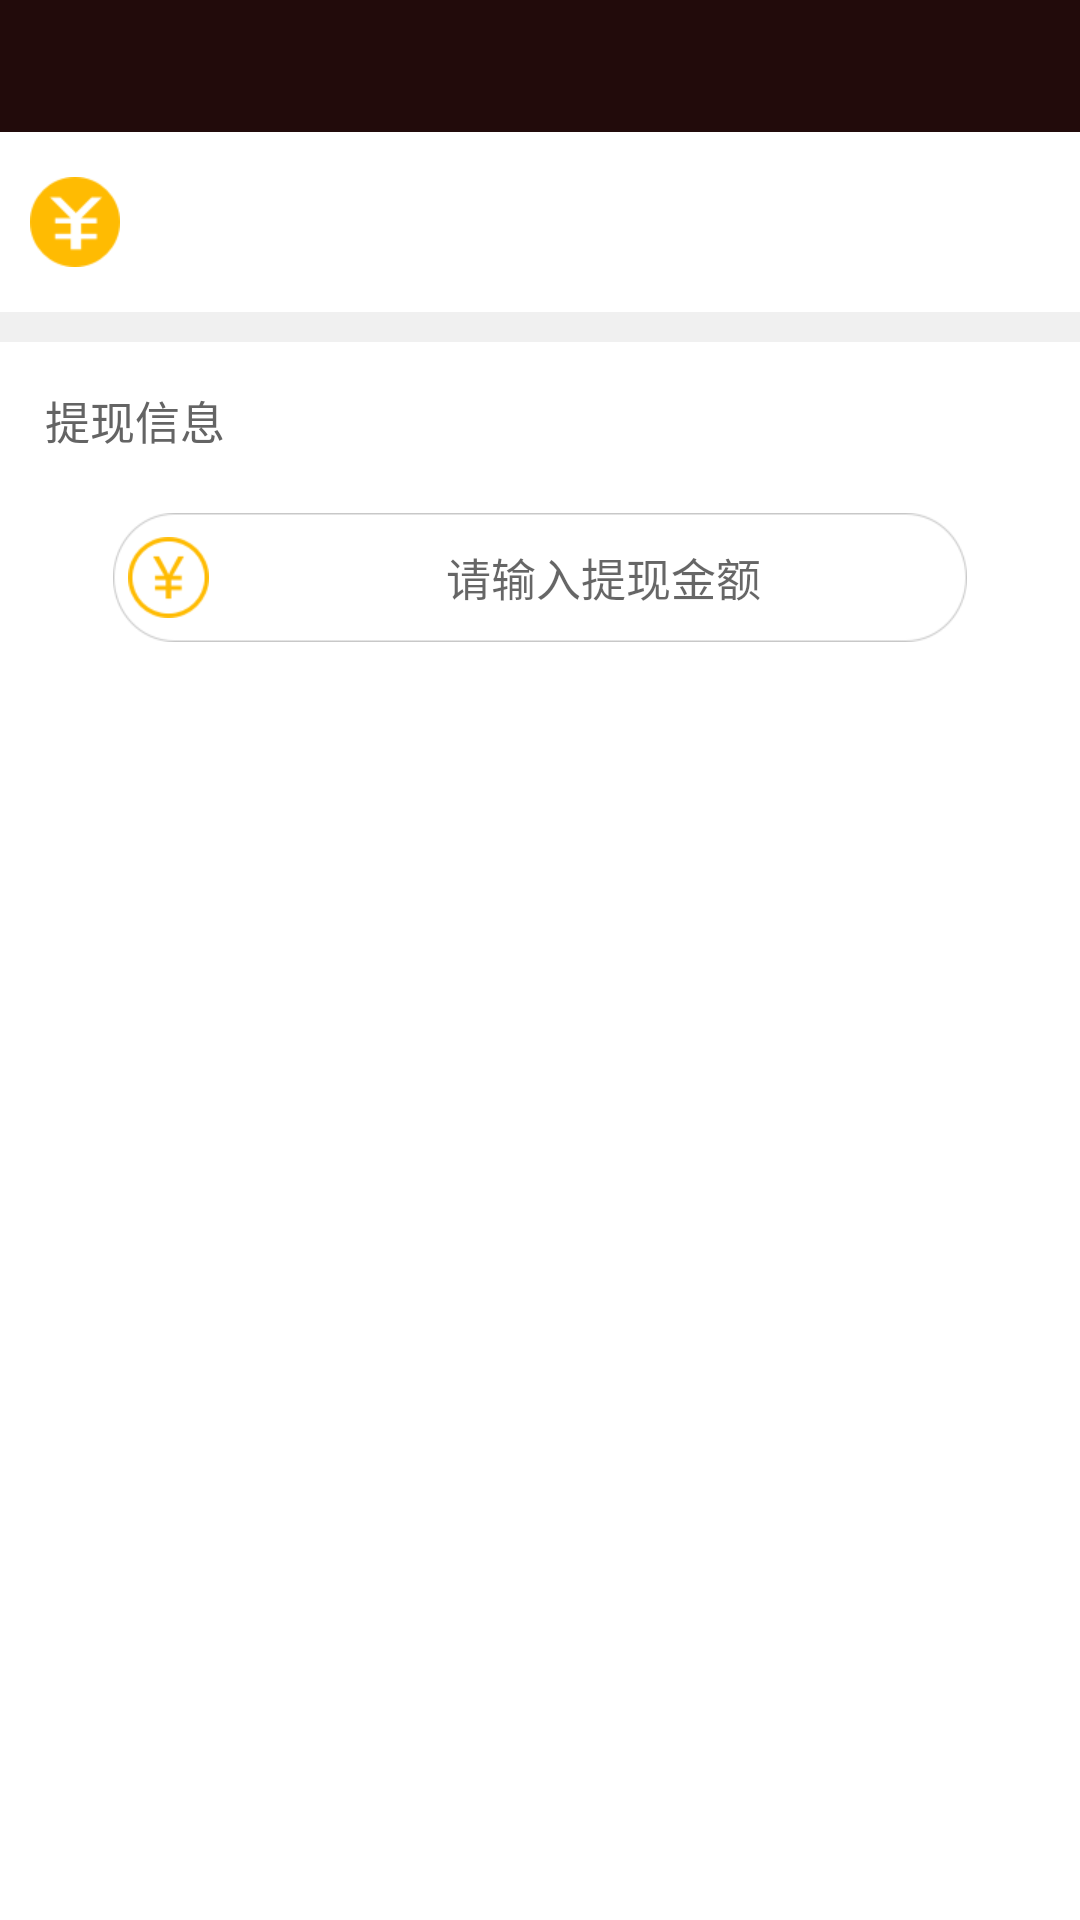

Screen size 1080 x 1920. Icon name, then its center in pixels as [x,y]:
money: [75,222]
